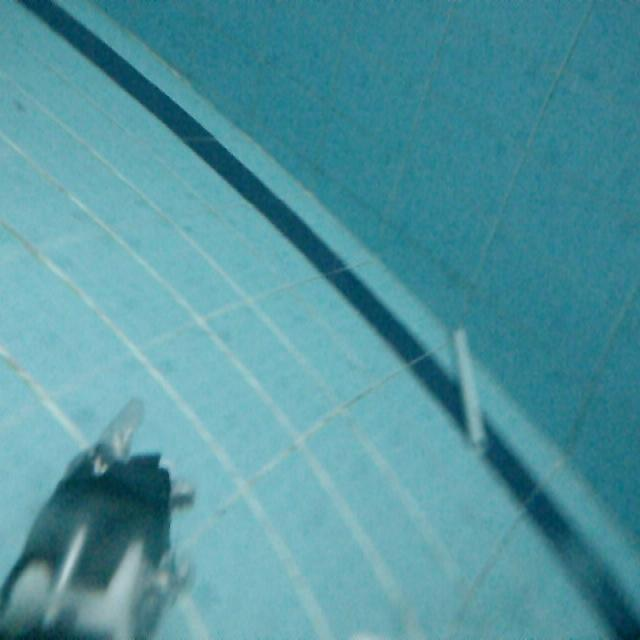Cube: (450, 324, 493, 458)
